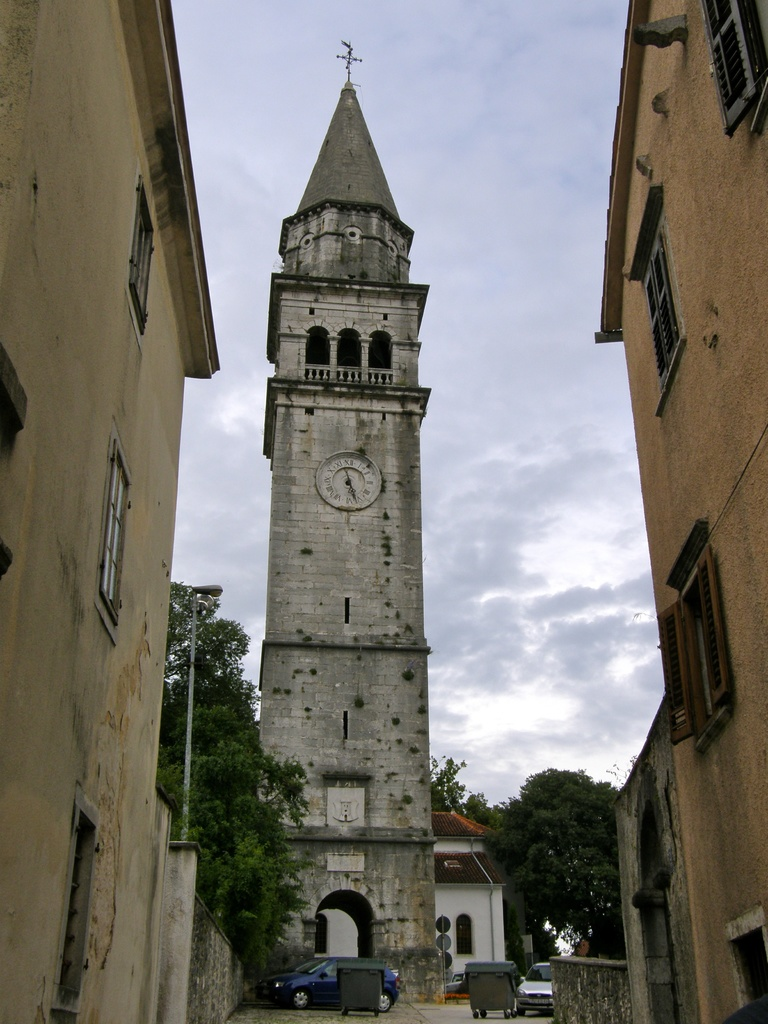Car: (254, 959, 399, 1013), (519, 962, 551, 1015), (446, 974, 469, 999)
